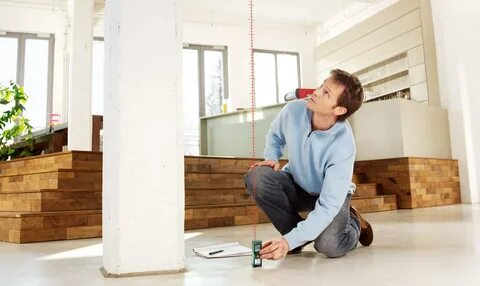awake: (243, 67, 374, 263)
